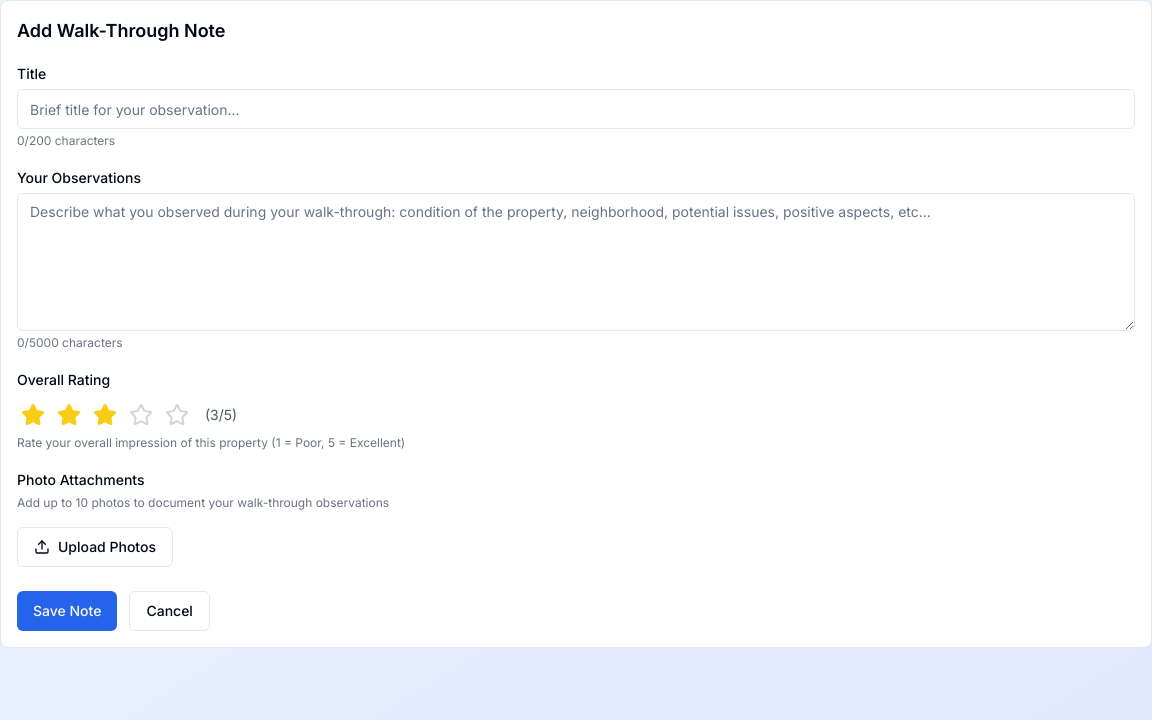
Test case: WalkThroughNoteForm Component › validates required fields
What coordinates should you click on to do the following:
click the button "Save Note"
I would click on:
 (67, 611)
Its box is [17,591,117,631].
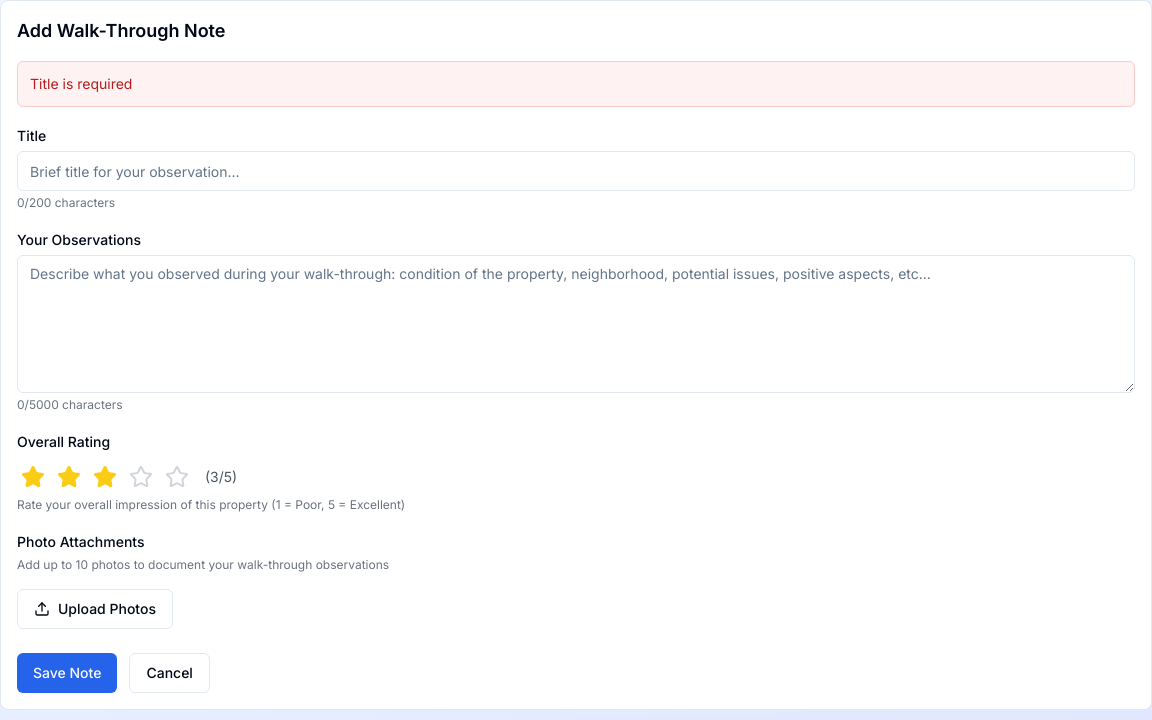
Now the text "Title is required" is shown, box [30,75,132,92]
